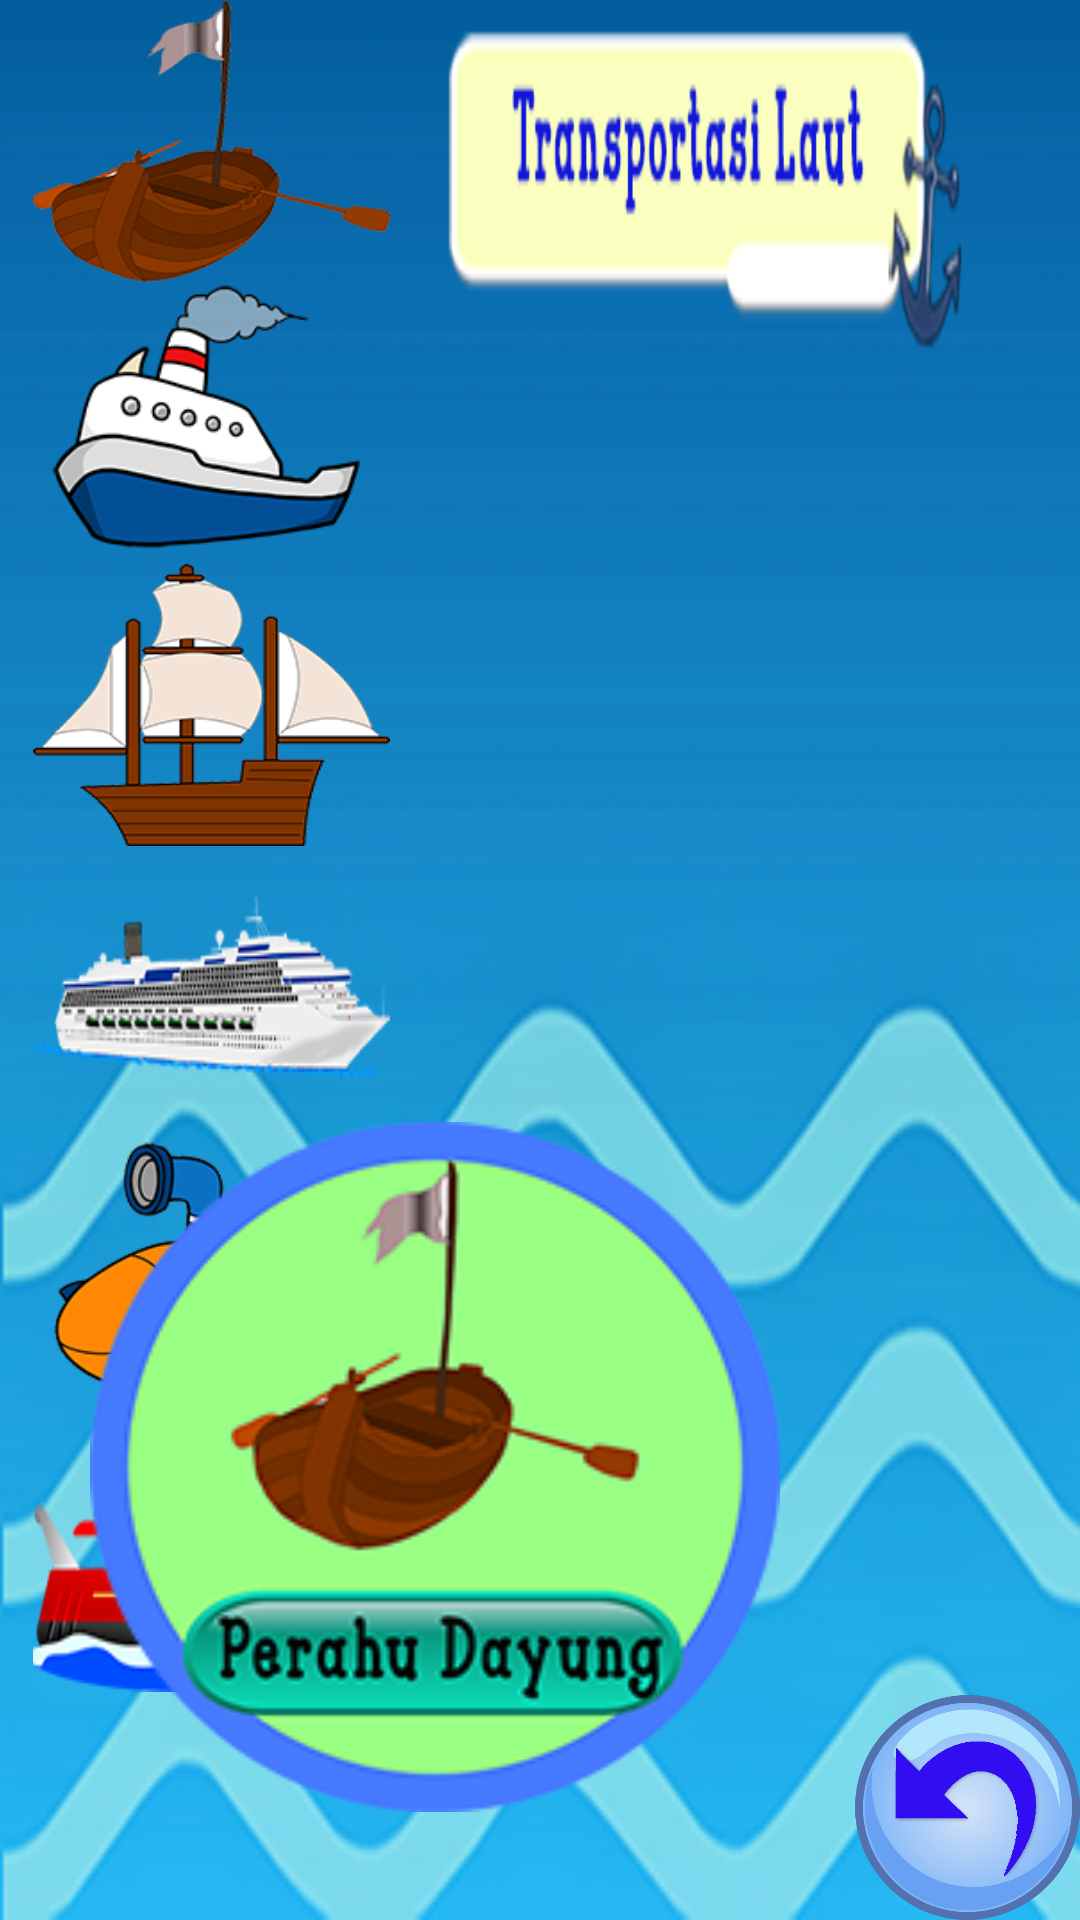

Icon click points for this 1080×1920 phone screenshot, format [x,y]:
back: [967,1807]
kapaluap: [206,416]
layar: [211,705]
pesiar: [212,1012]
